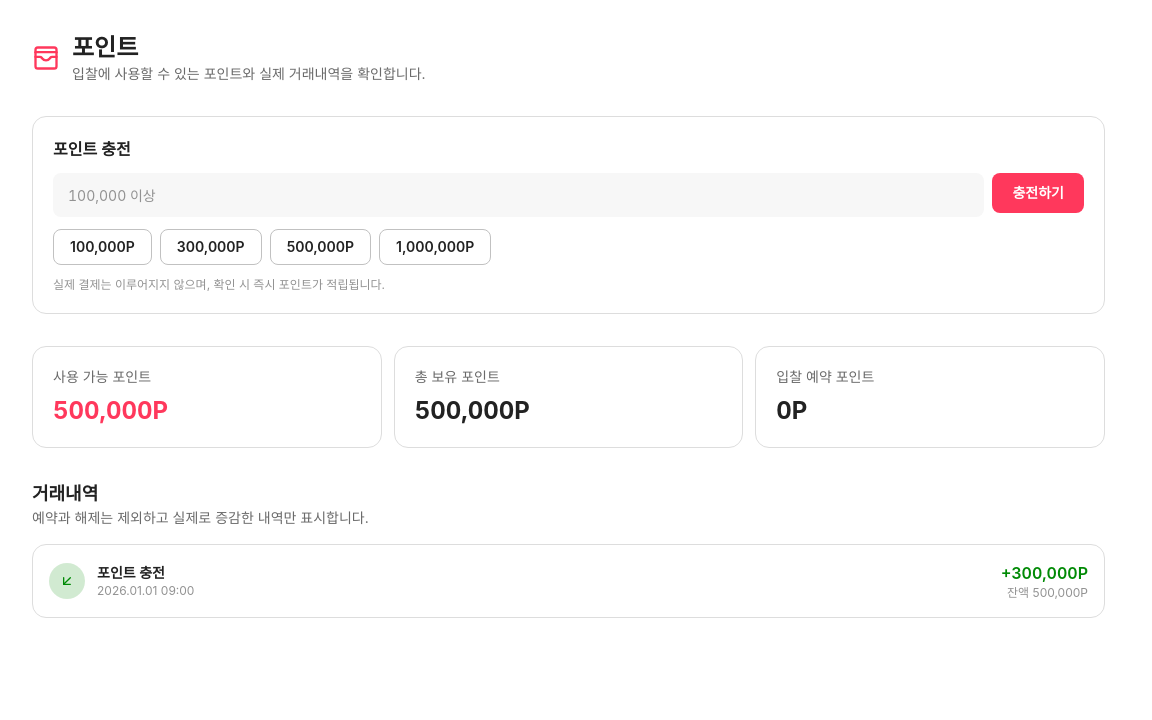
it: 포인트 충전 › 프리셋을_선택하고_충전하기를_누르면_확인_모달에_금액이_표시된다
The width and height of the screenshot is (1152, 720).
Click the button "300,000P": (211, 247) [160,229,262,265]
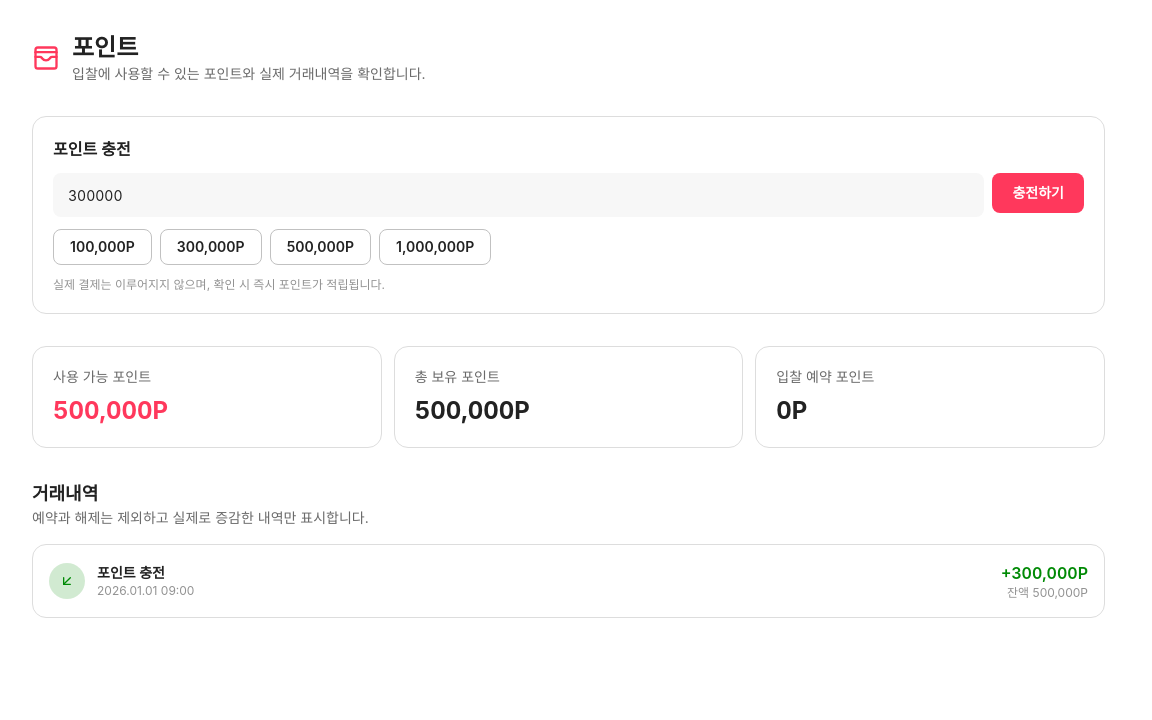
Click the button "충전하기": (1038, 193) [992,173,1084,213]
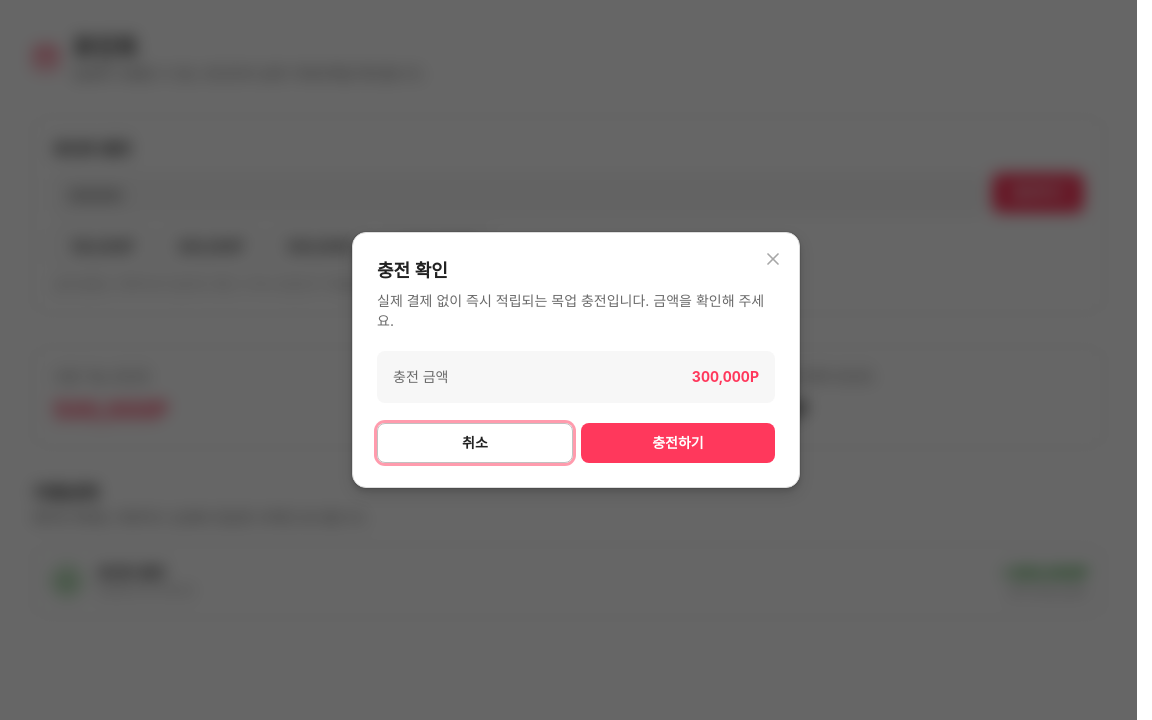
Expected: the heading "충전 확인" is shown, [377,260,448,281]
Expected: the text "300,000P" is shown, [692,367,759,387]
